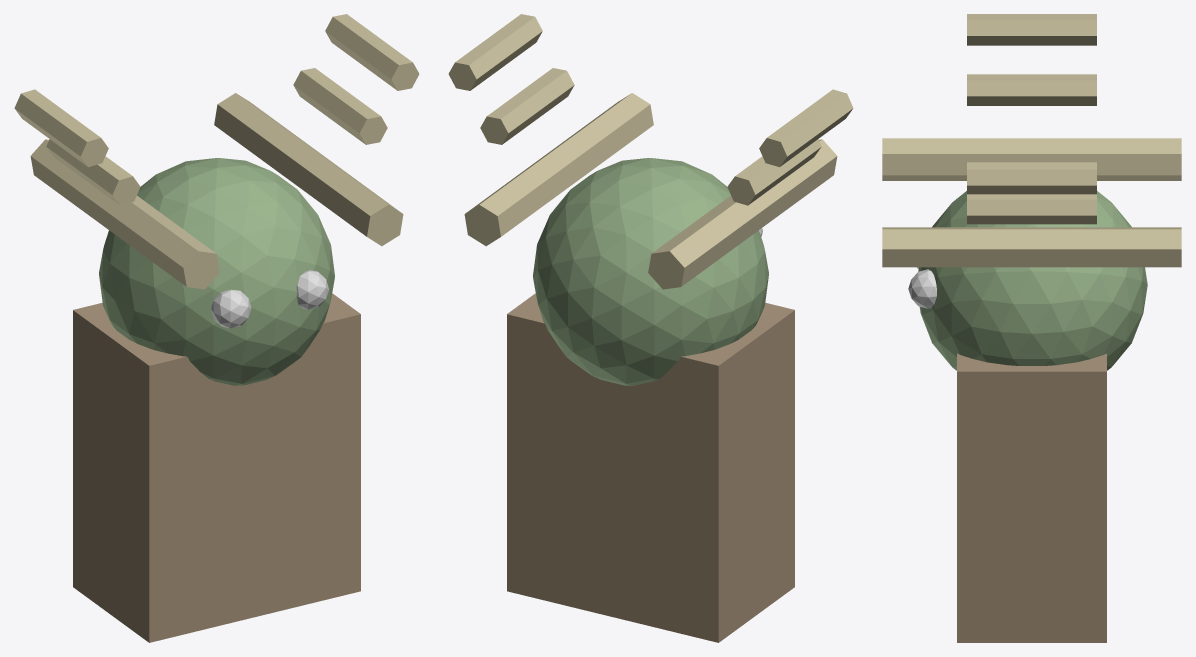
File: forest_guardian.glb
3 views of the same model, side by side, from view 1: azimuth 30°, elevation 25°; view 2: azimuth 150°, elevation 25°; view 3: azimuth 270°, elevation 25° (orthographic). The views are drawn at different scales.
Visible parts, largest first — view 1: body, head, antler1, antler-1, branch10, branch11, branch-11, branch-10, eye-022, eye022; view 2: body, head, antler1, antler-1, branch10, branch11, branch-11, branch-10; view 3: body, head, antler1, antler-1, branch11, branch-10, branch-11, branch10, eye022.
Boxes of the visible parts, left/top/right/bottom form: body: left=73, top=293, right=360, bottom=642; head: left=99, top=158, right=334, bottom=385; antler1: left=214, top=93, right=403, bottom=246; antler-1: left=30, top=139, right=219, bottom=289; branch10: left=293, top=68, right=387, bottom=144; branch11: left=325, top=14, right=419, bottom=90; branch-11: left=14, top=89, right=108, bottom=167; branch-10: left=46, top=139, right=140, bottom=205; eye-022: left=211, top=289, right=251, bottom=328; eye022: left=296, top=270, right=328, bottom=309; body: left=507, top=293, right=794, bottom=642; head: left=533, top=158, right=768, bottom=385; antler1: left=464, top=93, right=653, bottom=246; antler-1: left=648, top=139, right=837, bottom=289; branch10: left=480, top=68, right=574, bottom=144; branch11: left=448, top=14, right=542, bottom=90; branch-11: left=759, top=89, right=853, bottom=167; branch-10: left=727, top=139, right=821, bottom=205; body: left=957, top=353, right=1106, bottom=642; head: left=918, top=191, right=1147, bottom=370; antler1: left=882, top=227, right=1181, bottom=267; antler-1: left=882, top=138, right=1181, bottom=180; branch11: left=967, top=162, right=1096, bottom=194; branch-10: left=967, top=74, right=1096, bottom=105; branch-11: left=967, top=14, right=1096, bottom=45; branch10: left=967, top=194, right=1096, bottom=224; eye022: left=908, top=269, right=936, bottom=308.
Bounding box in the file's own units: 1.92 × 2.77 × 1.5.
